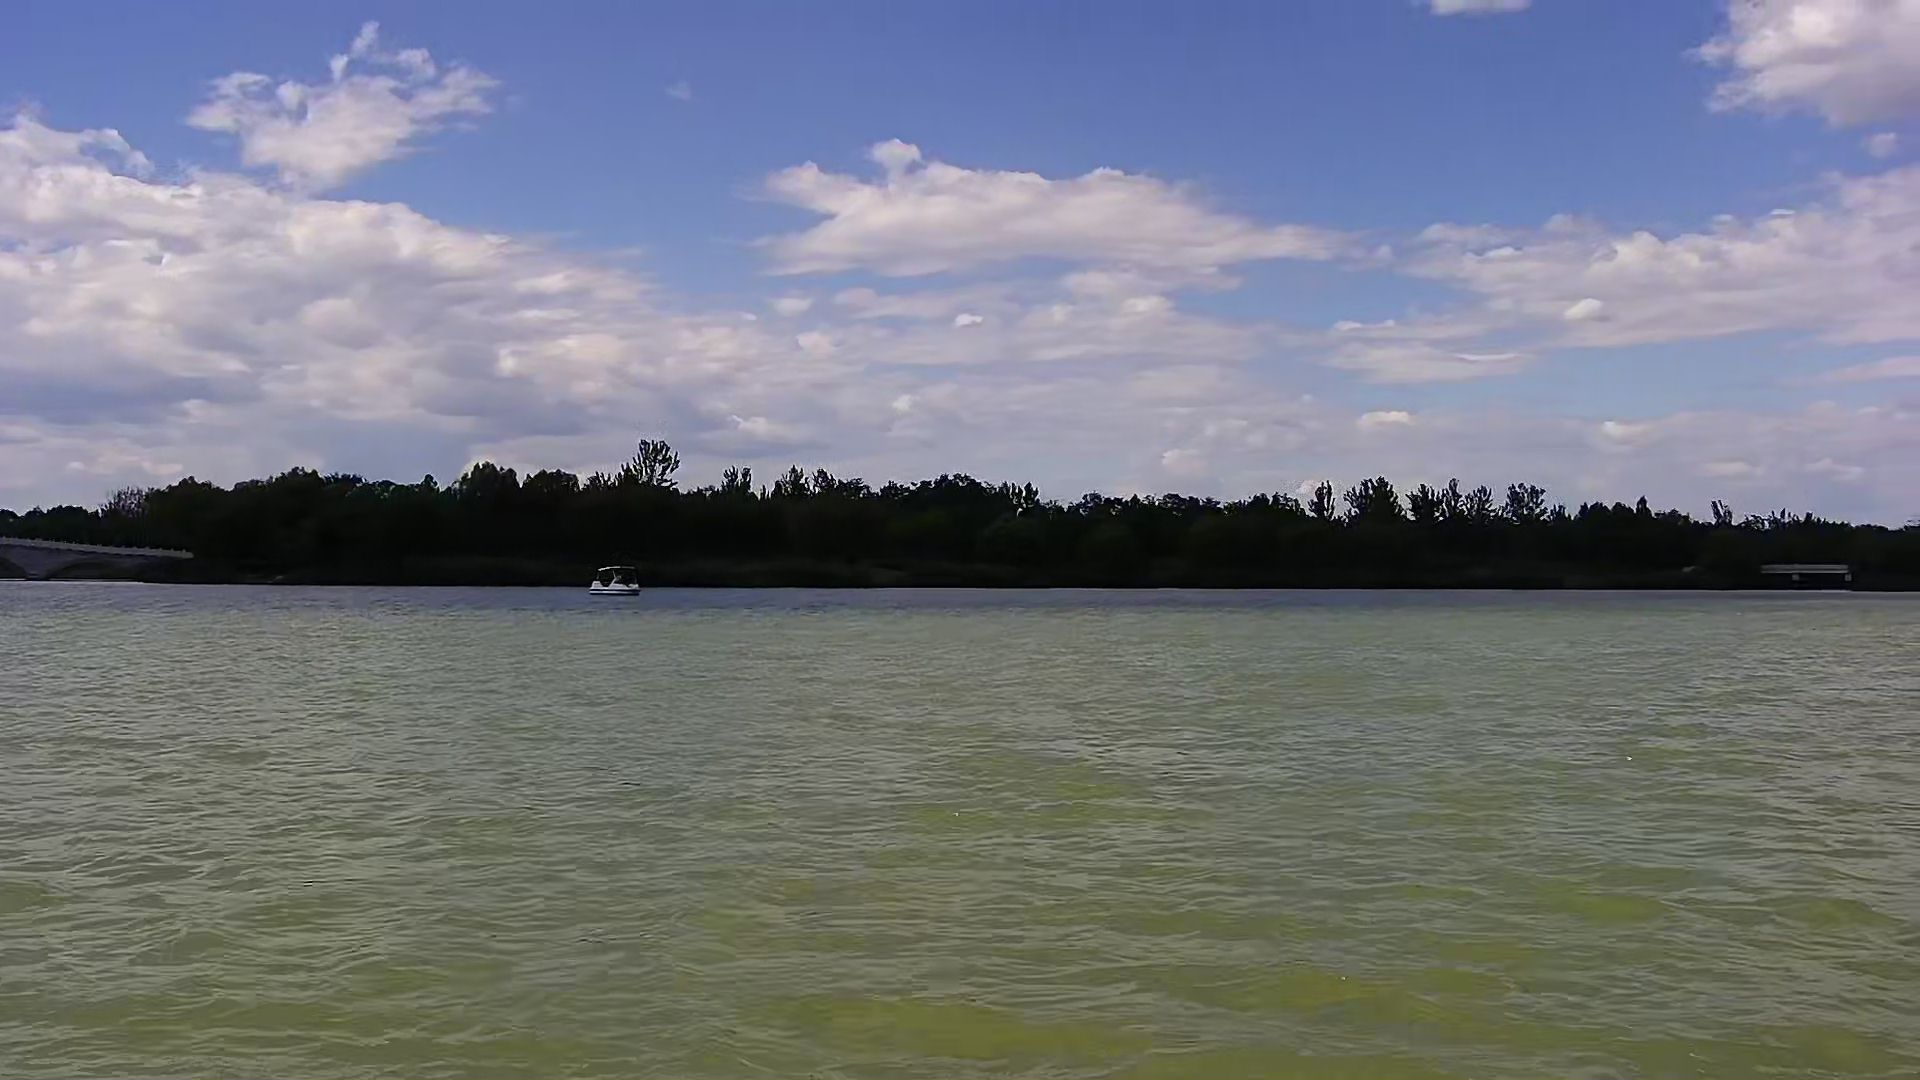boat: (585, 555, 644, 599)
bridge: (1, 533, 208, 587)
